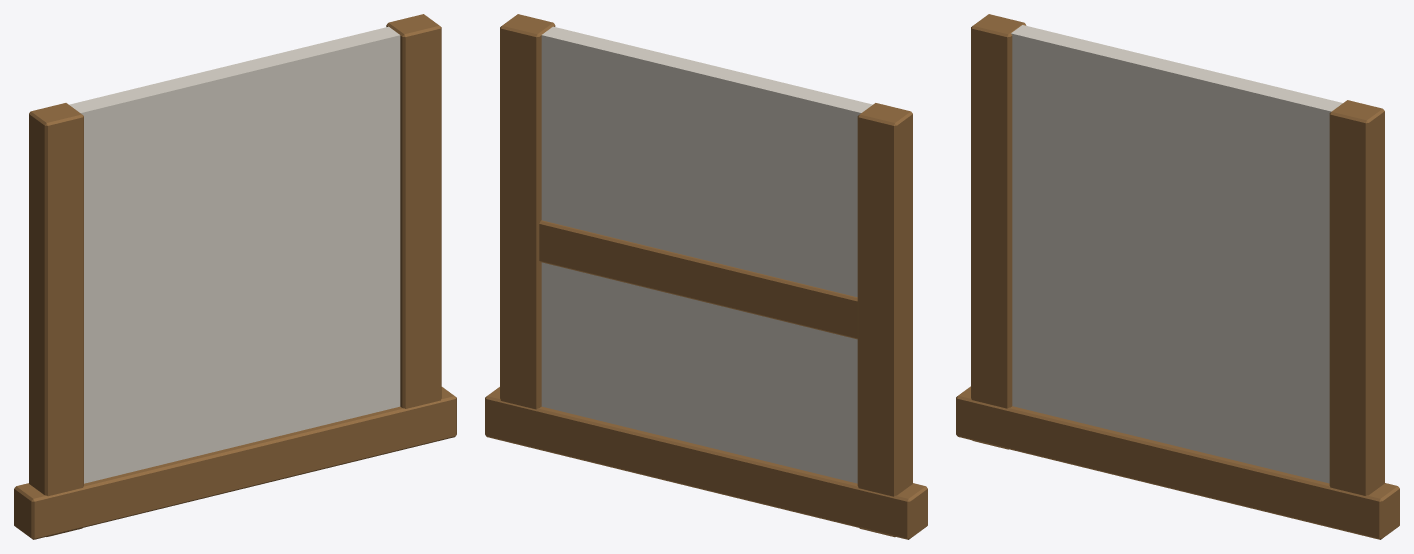
The model's file is WallH.fbx.
3 renders of one model, left to right at view 1: azimuth 30°, elevation 25°; view 2: azimuth 150°, elevation 25°; view 3: azimuth 330°, elevation 25°, orthographic.
Parts seen in each view (by area): view 1: Cube.107, Cube.116, Cube.119, Cube.115; view 2: Cube.107, Cube.116, Cube.119, Cube.115, Cube.117; view 3: Cube.107, Cube.115, Cube.119, Cube.116.
Boxes of the visible parts, bbox=[...] form: Cube.107: bbox=[69, 26, 400, 483]; Cube.116: bbox=[29, 103, 83, 536]; Cube.119: bbox=[14, 387, 456, 539]; Cube.115: bbox=[386, 14, 441, 408]; Cube.107: bbox=[541, 26, 872, 483]; Cube.116: bbox=[857, 103, 912, 537]; Cube.119: bbox=[485, 387, 927, 539]; Cube.115: bbox=[500, 14, 555, 409]; Cube.117: bbox=[539, 220, 857, 339]; Cube.107: bbox=[1011, 25, 1342, 483]; Cube.115: bbox=[1329, 100, 1384, 495]; Cube.119: bbox=[956, 386, 1399, 539]; Cube.116: bbox=[971, 14, 1026, 449].
Bounding box in the file's own units: 216 × 202 × 17.27.
